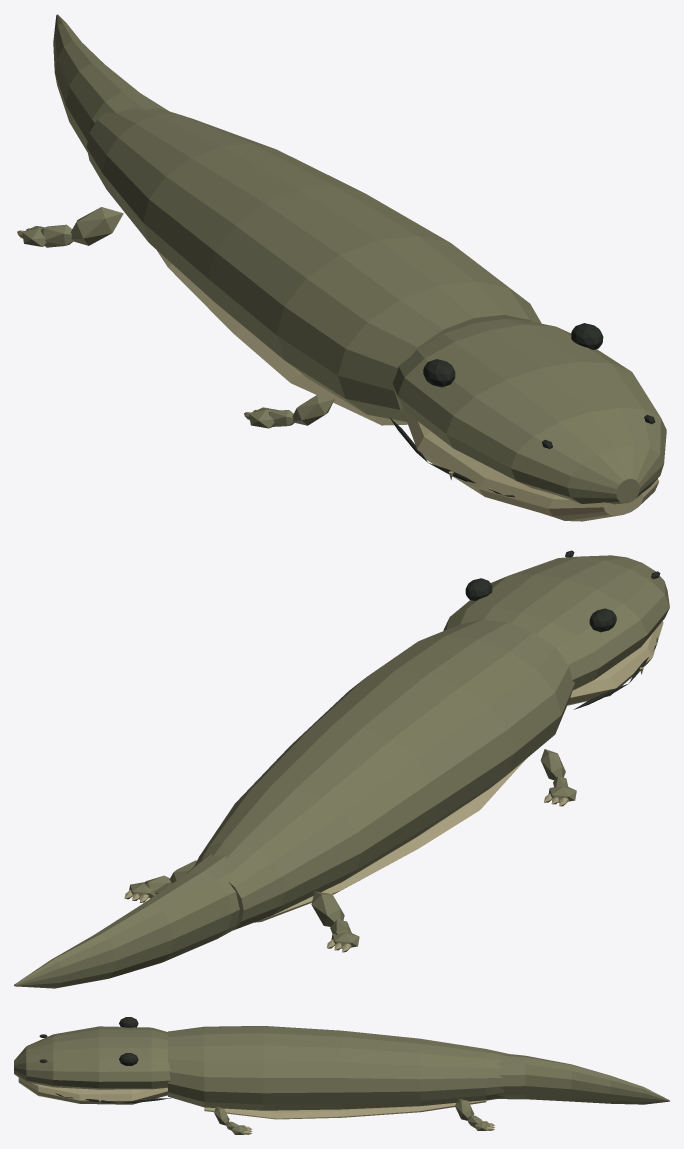
3 views of the same model, one above another, from view 1: azimuth 30°, elevation 25°; view 2: azimuth 150°, elevation 25°; view 3: azimuth 270°, elevation 25° (orthographic). The views are drawn at different scales.
Visible parts, largest first — view 1: surface_muted_olive_umber_skin, surface_subdued_lighter_underside, surface_dark_eyes_mouth; view 2: surface_muted_olive_umber_skin, surface_subdued_lighter_underside, surface_dark_eyes_mouth; view 3: surface_muted_olive_umber_skin, surface_subdued_lighter_underside, surface_dark_eyes_mouth.
Part boxes in pixels (box(x1,y1,x2,y2)): surface_muted_olive_umber_skin: box(22, 14, 666, 504); surface_subdued_lighter_underside: box(17, 226, 658, 521); surface_dark_eyes_mouth: box(389, 323, 655, 497); surface_muted_olive_umber_skin: box(14, 555, 669, 988); surface_subdued_lighter_underside: box(124, 621, 663, 952); surface_dark_eyes_mouth: box(465, 550, 660, 709); surface_muted_olive_umber_skin: box(14, 1026, 669, 1134); surface_subdued_lighter_underside: box(18, 1077, 494, 1134); surface_dark_eyes_mouth: box(39, 1017, 171, 1103).
Bounding box in the file's own units: 0.2668 × 0.124 × 1.
